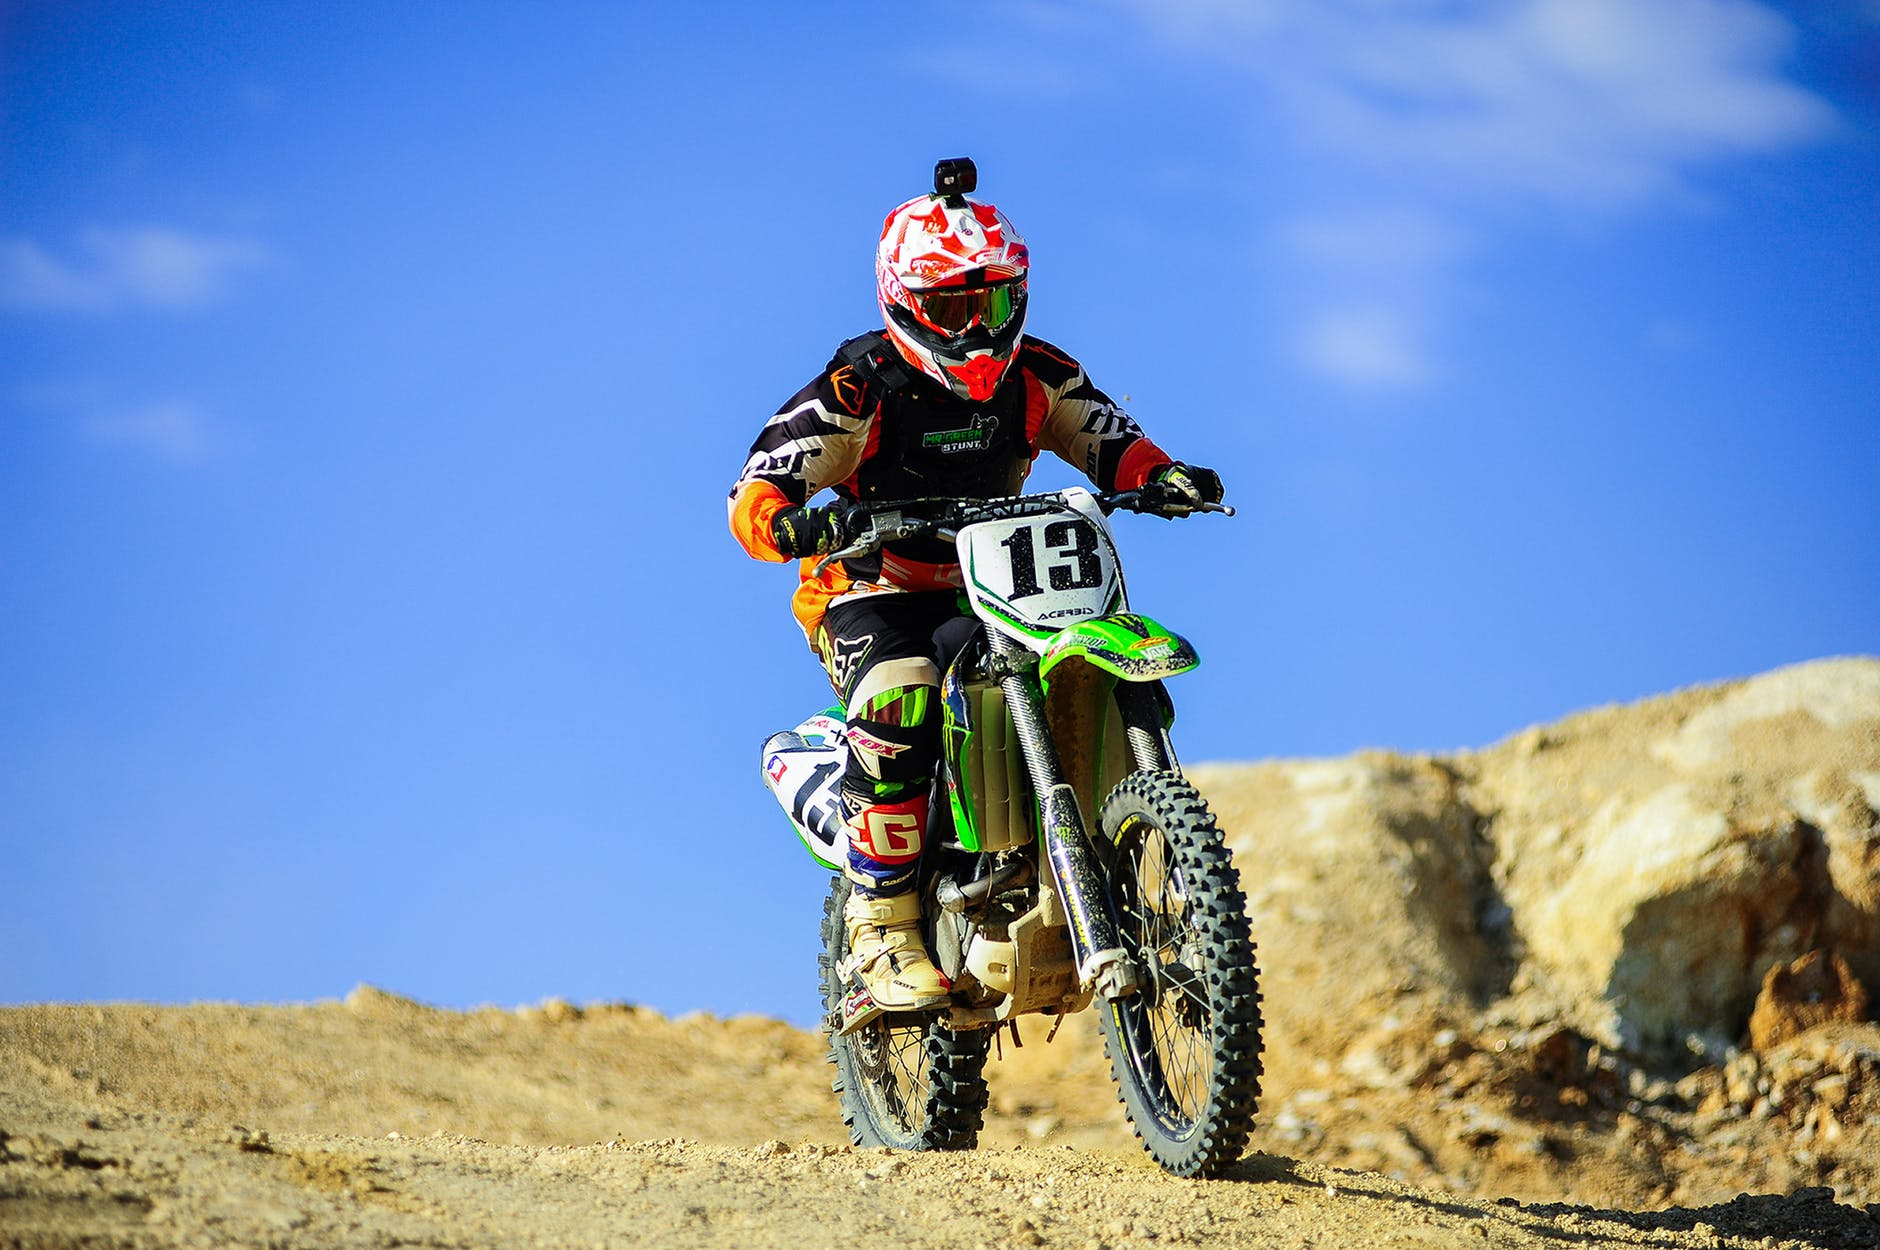helmet: (867, 195, 1042, 399)
